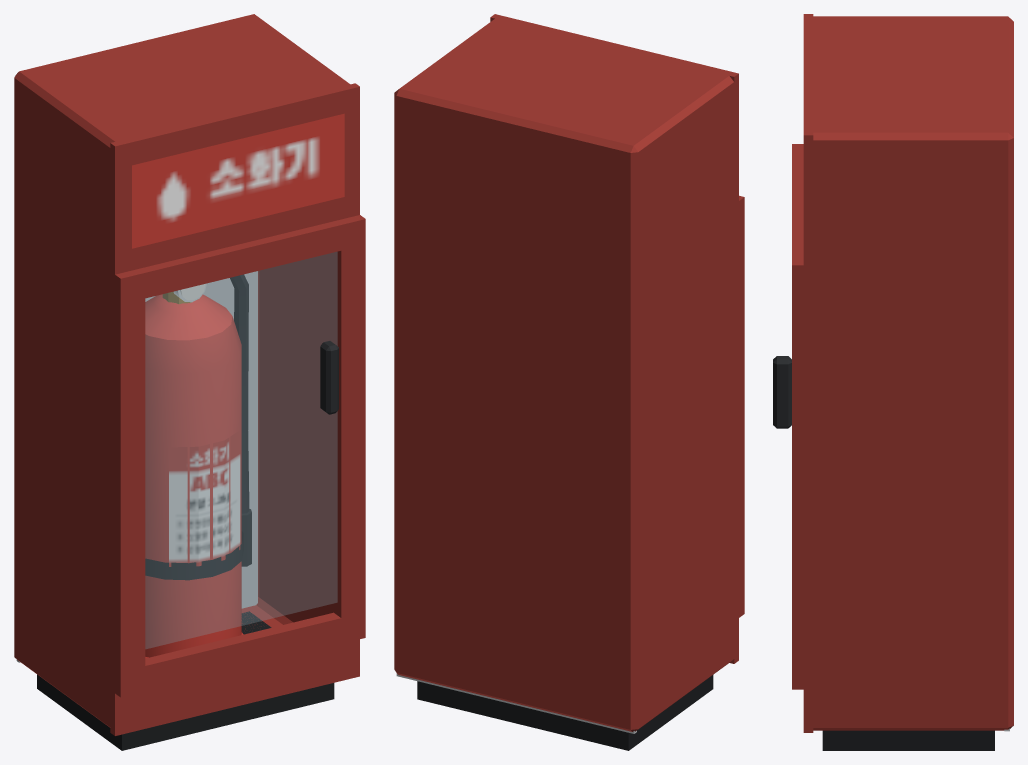
The model's file is SC_Fix_Extinguisher_Box.gltf.
3 renders of one model, left to right at view 1: azimuth 30°, elevation 25°; view 2: azimuth 150°, elevation 25°; view 3: azimuth 270°, elevation 25°, orthographic.
Parts seen in each view (by area): view 1: SC_Fix_Extinguisher_Box; view 2: SC_Fix_Extinguisher_Box; view 3: SC_Fix_Extinguisher_Box.
Boxes of the visible parts, x1,y1,x2,y2 form: SC_Fix_Extinguisher_Box: [14, 14, 365, 750]; SC_Fix_Extinguisher_Box: [394, 14, 744, 750]; SC_Fix_Extinguisher_Box: [773, 14, 1013, 750].
Size of the model in its own units: 0.3 by 0.72 by 0.252.
3 materials, 3 textured.
